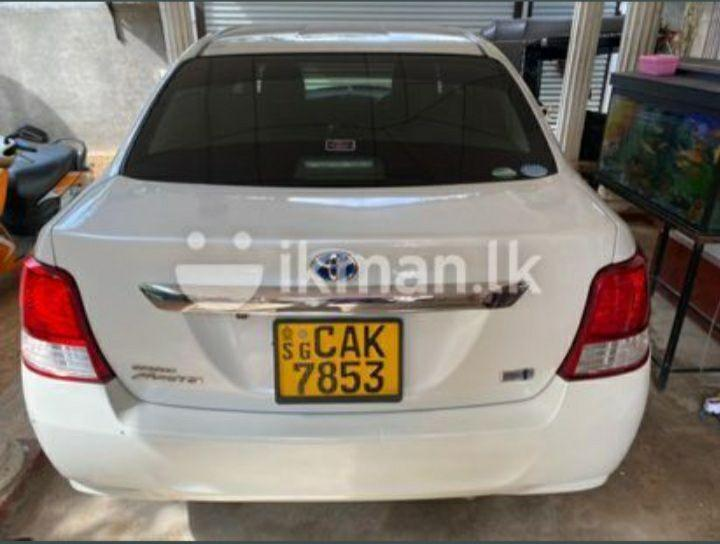license-plate: (275, 322, 401, 397)
